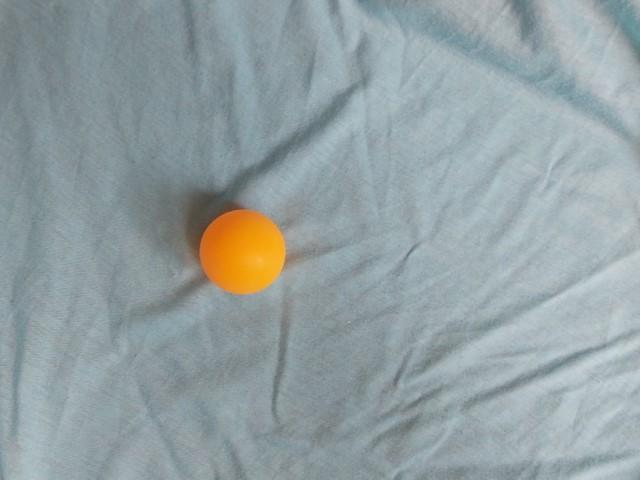oball: (346, 176, 450, 281)
